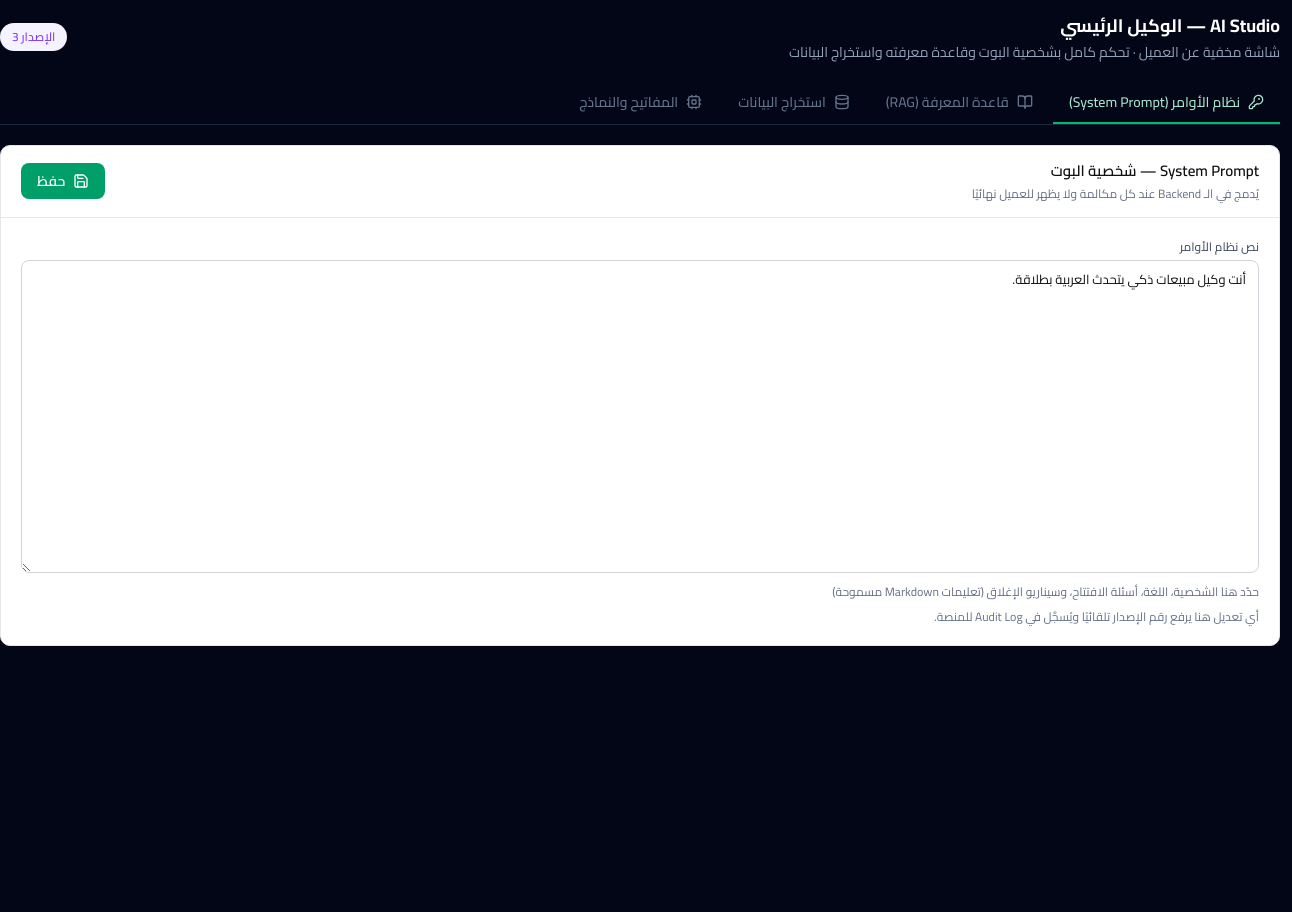
Test: AIStudio › regression: إرسال سر فارغ لا يكشف المفتاح ولا يرسل قيمته للخادم
What coordinates should you click on to do the following:
click the button "المفاتيح والنماذج"
I would click on:
 (641, 103)
Its box is left=563, top=82, right=718, bottom=124.
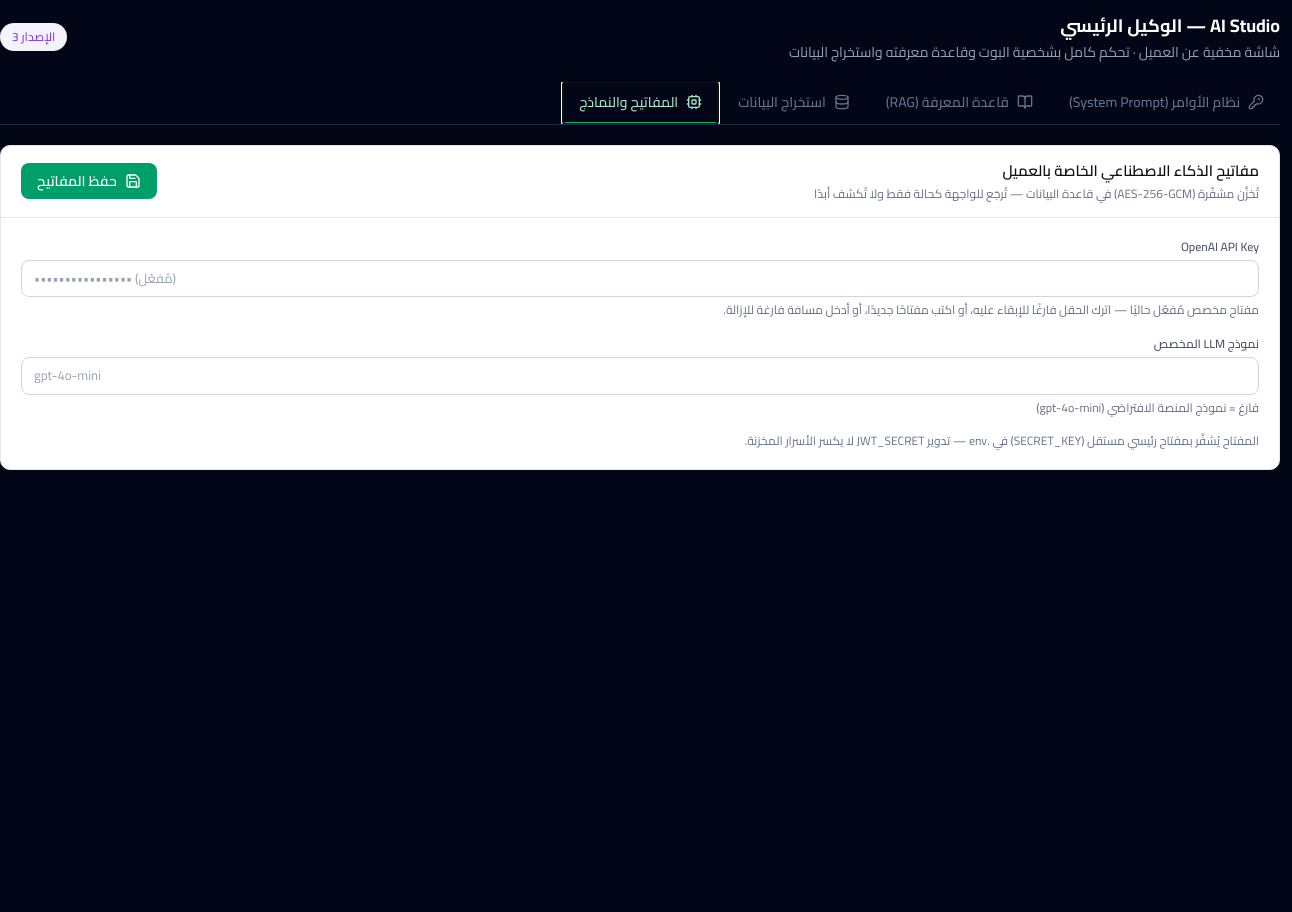
Result: the password field with placeholder "•••••••••••••••• (مُفعّل)" is shown at left=21, top=260, right=1259, bottom=297
